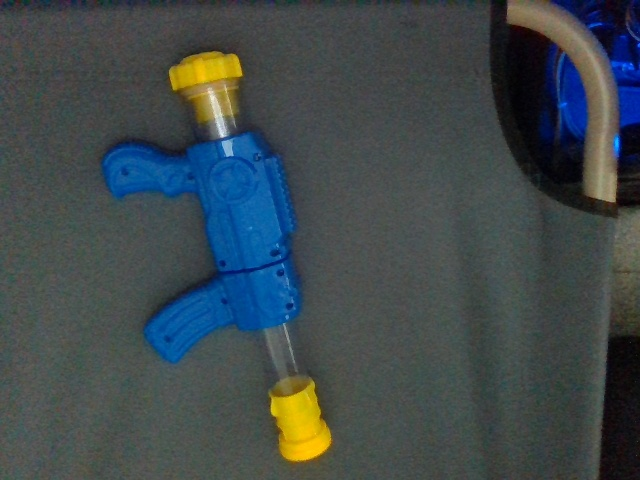screw hole: (164, 335, 174, 344), (270, 249, 280, 258), (252, 152, 260, 162), (121, 167, 129, 176), (276, 268, 285, 276), (285, 302, 294, 310), (218, 260, 226, 268), (187, 173, 195, 180), (222, 298, 228, 305)
toy: (101, 50, 333, 463)
